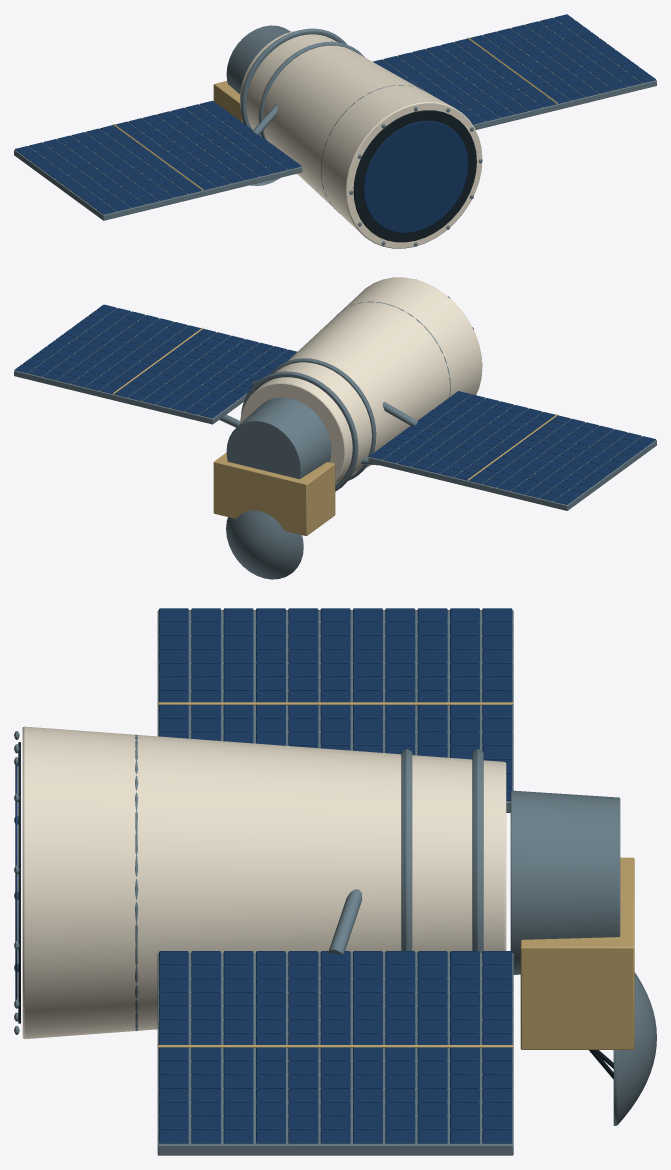
Rendered from orbital_telescope.glb.
The picture shows the model from 3 angles, top to bottom: view 1: azimuth 30°, elevation 25°; view 2: azimuth 150°, elevation 25°; view 3: azimuth 270°, elevation 25°; orthographic projection. The views are drawn at different scales.
Visible parts, largest first — view 1: Detail.orbital_telescope.Glass, Detail.orbital_telescope.Ivory, Detail.orbital_telescope.Metal, Detail.orbital_telescope.Dark, Detail.orbital_telescope.Brass; view 2: Detail.orbital_telescope.Glass, Detail.orbital_telescope.Ivory, Detail.orbital_telescope.Metal, Detail.orbital_telescope.Brass; view 3: Detail.orbital_telescope.Glass, Detail.orbital_telescope.Ivory, Detail.orbital_telescope.Metal, Detail.orbital_telescope.Brass, Detail.orbital_telescope.Dark.
Part boxes in pixels (x1,y1,x2,y2): Detail.orbital_telescope.Glass: [15, 14, 655, 232]; Detail.orbital_telescope.Ivory: [240, 30, 482, 248]; Detail.orbital_telescope.Metal: [14, 18, 656, 246]; Detail.orbital_telescope.Dark: [353, 110, 476, 242]; Detail.orbital_telescope.Brass: [113, 37, 557, 190]; Detail.orbital_telescope.Glass: [15, 304, 655, 504]; Detail.orbital_telescope.Ivory: [240, 277, 482, 484]; Detail.orbital_telescope.Metal: [14, 279, 656, 579]; Detail.orbital_telescope.Brass: [113, 327, 557, 536]; Detail.orbital_telescope.Glass: [15, 608, 512, 1143]; Detail.orbital_telescope.Ivory: [22, 726, 506, 1039]; Detail.orbital_telescope.Metal: [14, 610, 656, 1155]; Detail.orbital_telescope.Brass: [157, 702, 634, 1049]; Detail.orbital_telescope.Dark: [18, 742, 613, 1079].
Bounding box in the file's own units: 8.9 × 2.92 × 4.52.
